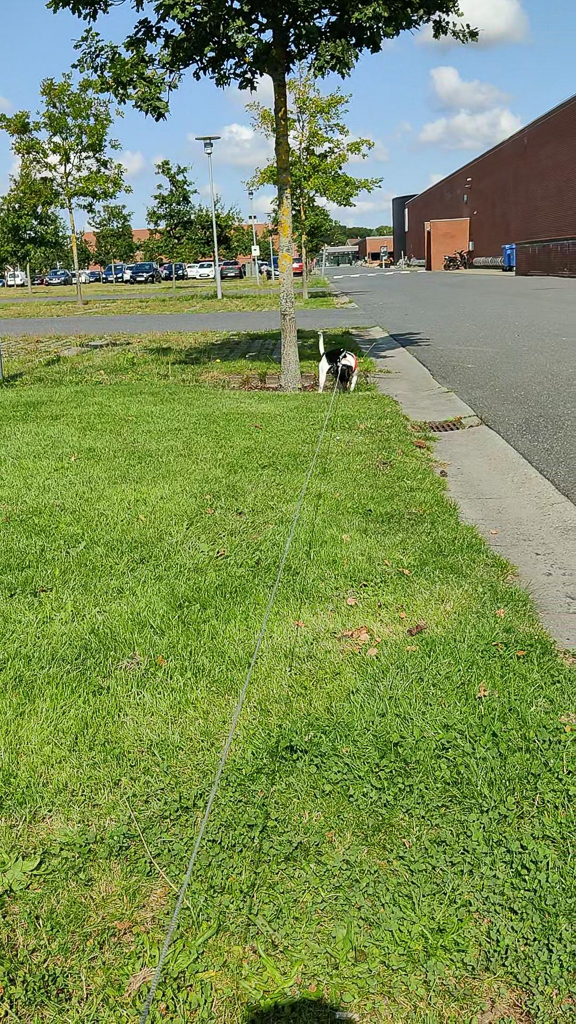Dog: (311, 324, 366, 399)
